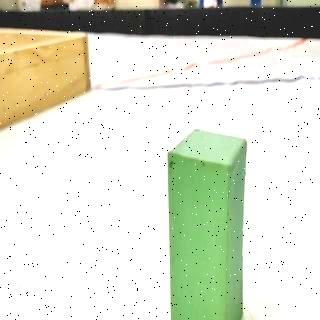greenbox: (166, 125, 248, 320)
